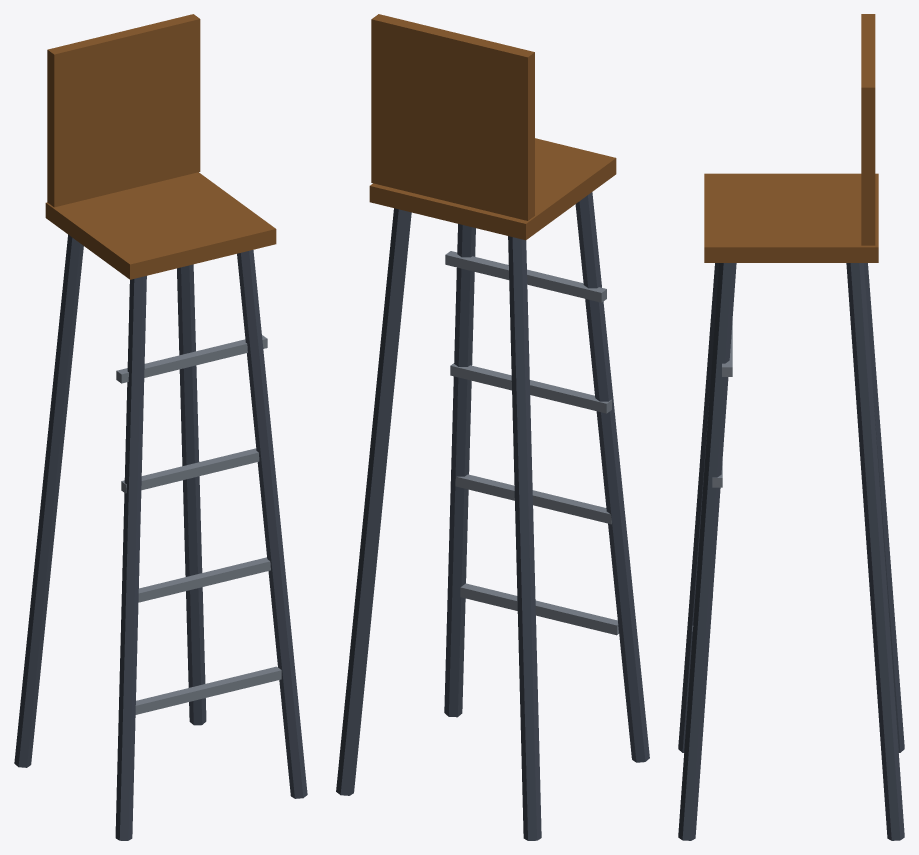
Rendered from referee_chair.glb.
3 renders of one model, left to right at view 1: azimuth 30°, elevation 25°; view 2: azimuth 150°, elevation 25°; view 3: azimuth 270°, elevation 25°, orthographic. The views are drawn at different scales.
Parts seen in each view (by area): view 1: referee_chair; view 2: referee_chair; view 3: referee_chair.
Part boxes in pixels (x1,y1,x2,y2): referee_chair: (14, 14, 307, 840); referee_chair: (336, 14, 649, 840); referee_chair: (678, 14, 904, 840).
Bounding box in the file's own units: 0.6433 × 2.35 × 0.6499.
